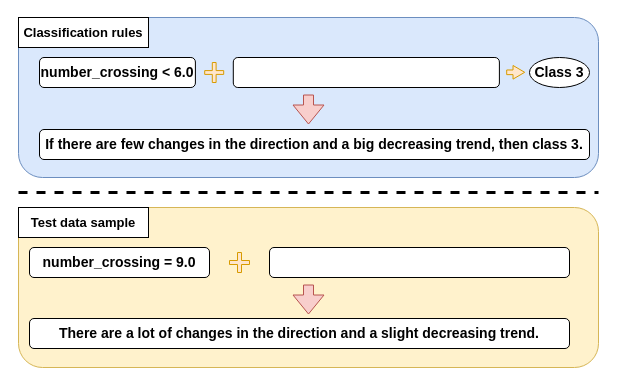
Image size: 618x385. Some labels were removed from this diagram. Here are the shapes that lost their labels. From the top down, the centre of each, then its label:
the point at 365,72: agg_linear_trend __attr_"intercept > 0.4
the point at 419,262: agg_linear_trend __attr_"intercept = 0.23
